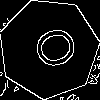O: (24, 23, 80, 75)
